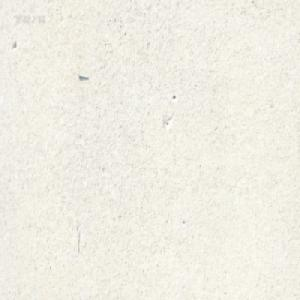Nail: (77, 72, 90, 79)
